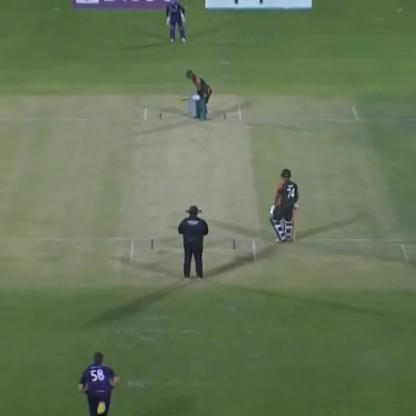pitch: (125, 105, 257, 273)
